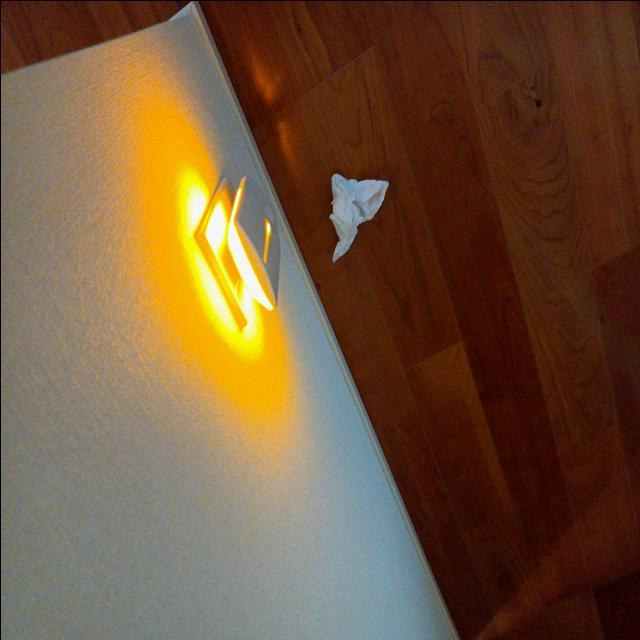Paper: (315, 165, 398, 265)
